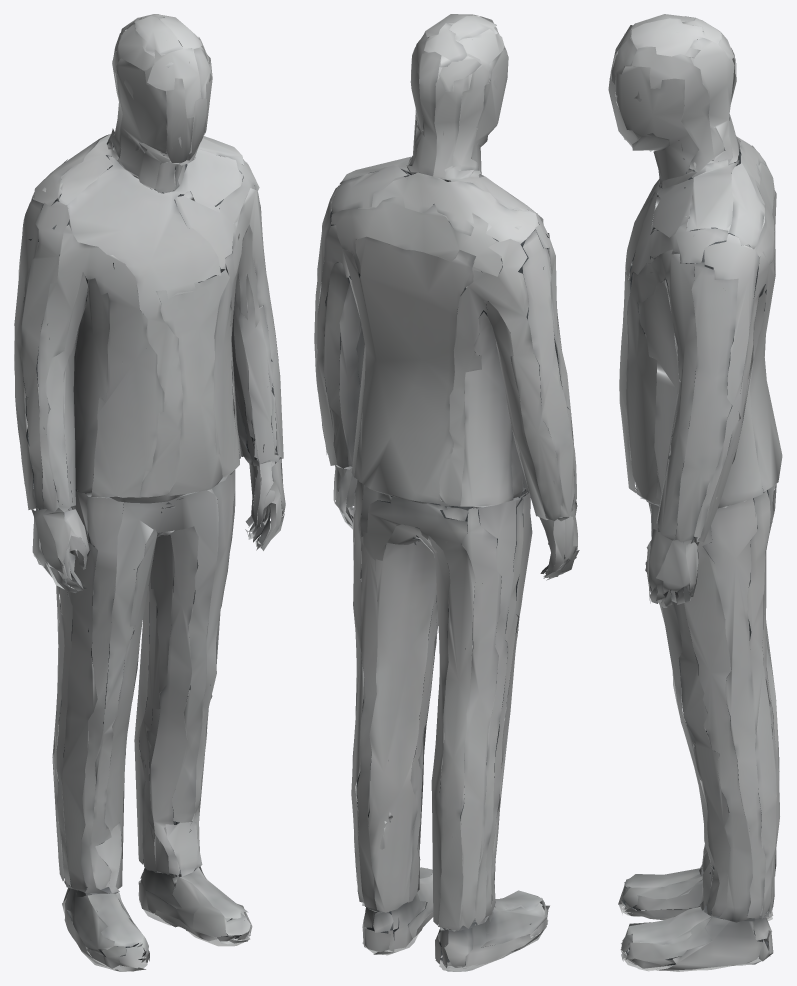
The model's file is musician-standing.glb.
3 renders of one model, left to right at view 1: azimuth 30°, elevation 25°; view 2: azimuth 150°, elevation 25°; view 3: azimuth 270°, elevation 25°, orthographic.
Parts seen in each view (by area): view 1: Mesh_0; view 2: Mesh_0; view 3: Mesh_0.
Part boxes in pixels (x1=…): Mesh_0: x1=14, y1=14, x2=285, y2=971; Mesh_0: x1=314, y1=14, x2=579, y2=971; Mesh_0: x1=608, y1=14, x2=782, y2=971.
Bounding box in the file's own units: 0.5 × 1.75 × 0.3001.
1 material, 1 textured.
